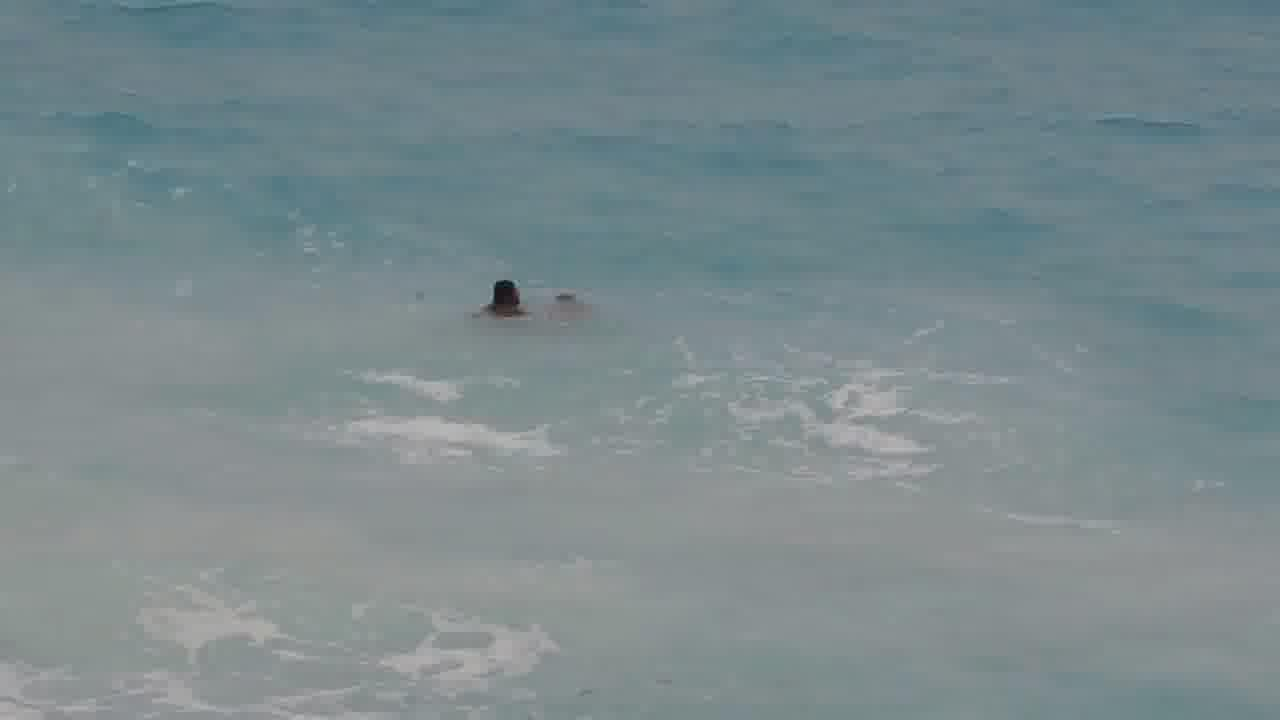swimmer: (478, 272, 521, 321)
